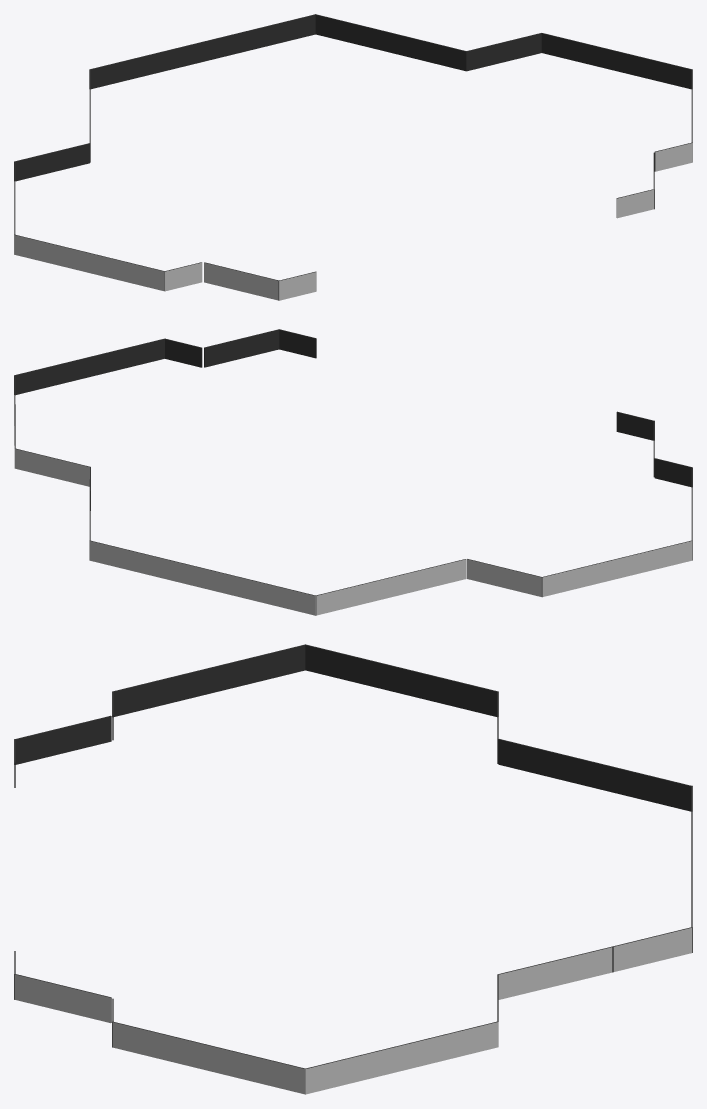
Rendered from ParedeProvisoriaExterna_PrimeiroAndar.gltf.
3 views of the same model, one above another, from view 1: azimuth 30°, elevation 25°; view 2: azimuth 150°, elevation 25°; view 3: azimuth 270°, elevation 25° (orthographic). The views are drawn at different scales.
Parts seen in each view (by area): view 1: Parede_Museu_08.021; view 2: Parede_Museu_08.021; view 3: Parede_Museu_08.021.
Part boxes in pixels (left/top/right/bottom): Parede_Museu_08.021: left=14, top=14, right=692, bottom=300; Parede_Museu_08.021: left=14, top=329, right=692, bottom=615; Parede_Museu_08.021: left=14, top=644, right=692, bottom=1094.
Bounding box in the file's own units: 180 × 5 × 121.
1 material, 1 textured.
